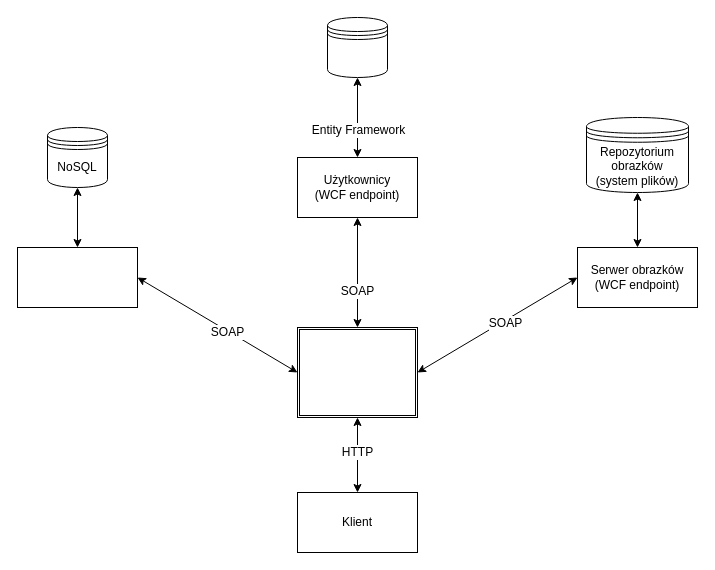
This 715x570 diagram has some shape labels left out. The centre of each missing label's shape, as x and y in pixels:
"Manager (ASP.NET WebAPI + klient WCF)" goes at pixel 357 372.
"SQL Server" goes at pixel 357 47.
"Statystyki (WCF endpoint)" goes at pixel 77 277.
